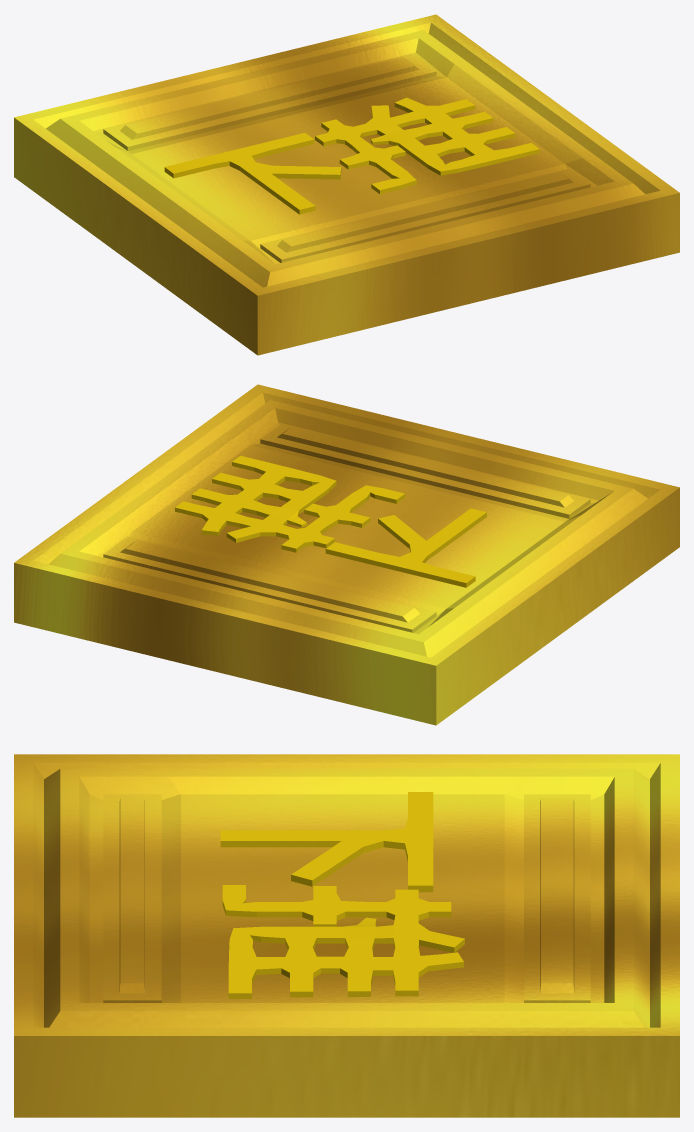
The model's file is Pressure.fbx.
3 views of the same model, one above another, from view 1: azimuth 30°, elevation 25°; view 2: azimuth 150°, elevation 25°; view 3: azimuth 270°, elevation 25° (orthographic). The views are drawn at different scales.
Visible parts, largest first — view 1: Cube, Cube.002, Cube.001; view 2: Cube, Cube.002, Cube.001; view 3: Cube, Cube.002, Cube.001.
Part boxes in pixels (left/top/right/bottom): Cube: left=14, top=14, right=679, bottom=355; Cube.002: left=315, top=97, right=539, bottom=194; Cube.001: left=164, top=133, right=341, bottom=214; Cube: left=14, top=384, right=679, bottom=725; Cube.002: left=175, top=455, right=405, bottom=552; Cube.001: left=325, top=508, right=486, bottom=587; Cube: left=14, top=754, right=679, bottom=1117; Cube.002: left=222, top=885, right=464, bottom=998; Cube.001: left=220, top=792, right=433, bottom=892.
Bounding box in the file's own units: 156 × 22.51 × 156.
2 materials, 1 textured.
